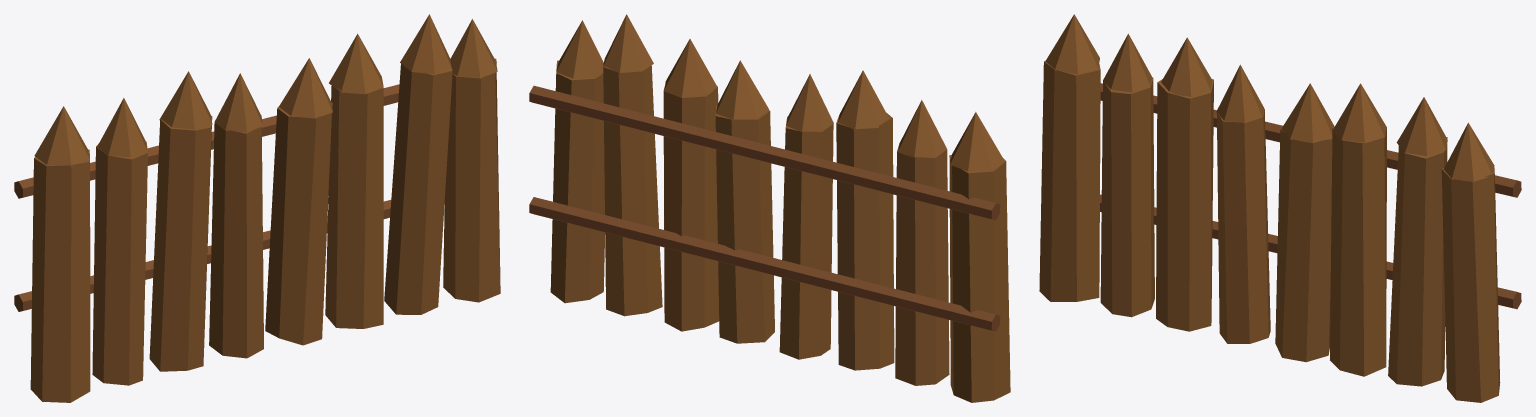
Rendered from palisade.glb.
3 renders of one model, left to right at view 1: azimuth 30°, elevation 25°; view 2: azimuth 150°, elevation 25°; view 3: azimuth 330°, elevation 25°, orthographic.
Visible parts, largest first — view 1: palisade; view 2: palisade; view 3: palisade.
Part boxes in pixels (box(x1,y1,x2,y2)): palisade: box(14, 14, 500, 402); palisade: box(529, 14, 1010, 402); palisade: box(1039, 14, 1521, 402).
Bounding box in the file's own units: 1 × 0.5984 × 0.1287.
